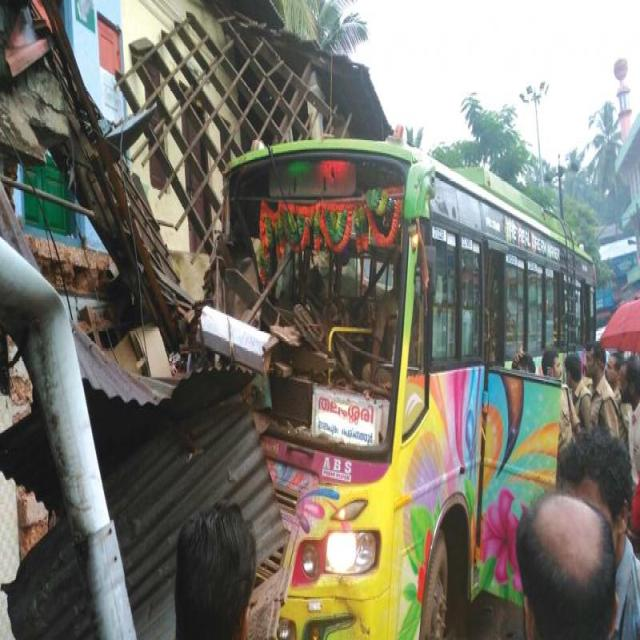accident: (201, 143, 595, 638)
